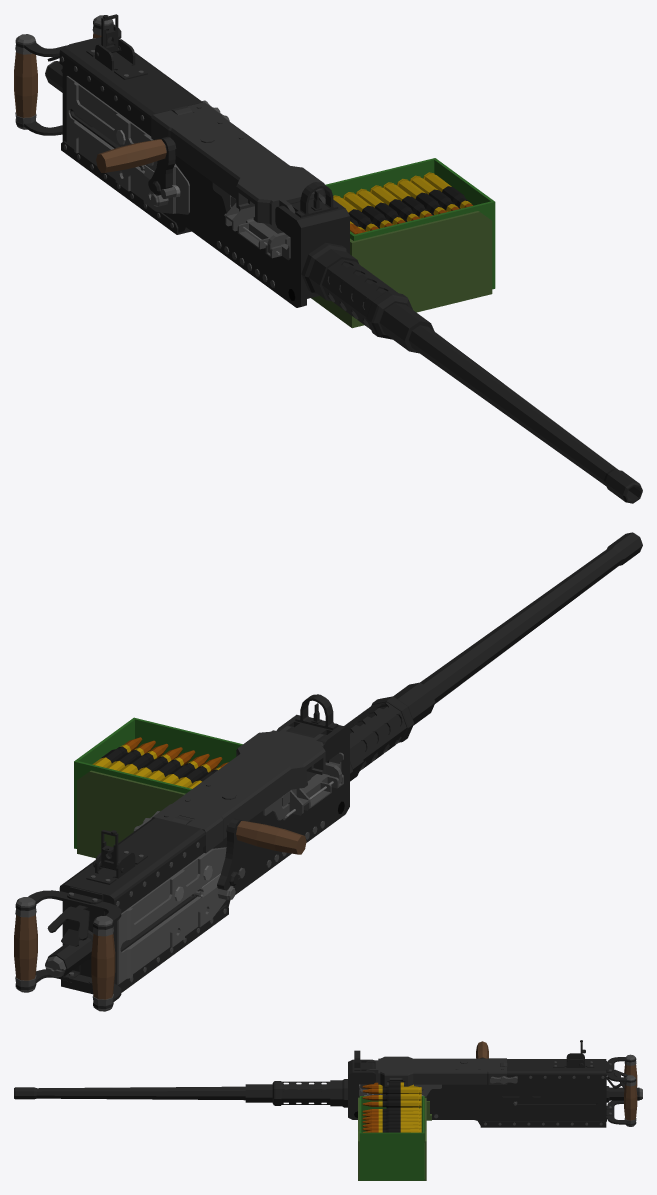
3 renders of one model, top to bottom at view 1: azimuth 30°, elevation 25°; view 2: azimuth 150°, elevation 25°; view 3: azimuth 270°, elevation 25°, orthographic. The views are drawn at different scales.
Parts seen in each view (by area): view 1: M2 Browning 2, M2 Browning 2 Ammo Base 1, M2 Browning 2 Top Cover 1, M2 Browning 2 Barrel 1, M2 Browning 2 Ammo Box 1, M2 Browning 2 Charging Handle 1; view 2: M2 Browning 2, M2 Browning 2 Top Cover 1, M2 Browning 2 Barrel 1, M2 Browning 2 Ammo Base 1, M2 Browning 2 Ammo Box 1, M2 Browning 2 Charging Handle 1, M2 Browning 2 Trigger 1; view 3: M2 Browning 2, M2 Browning 2 Ammo Box 1, M2 Browning 2 Barrel 1, M2 Browning 2 Top Cover 1, M2 Browning 2 Ammo Base 1.
Part boxes in pixels (x1=…): M2 Browning 2: x1=14, y1=15, x2=412, y2=339; M2 Browning 2 Ammo Base 1: x1=311, y1=211, x2=492, y2=328; M2 Browning 2 Top Cover 1: x1=151, y1=102, x2=325, y2=225; M2 Browning 2 Barrel 1: x1=328, y1=262, x2=642, y2=503; M2 Browning 2 Ammo Box 1: x1=325, y1=158, x2=495, y2=289; M2 Browning 2 Charging Handle 1: x1=96, y1=136, x2=176, y2=195; M2 Browning 2: x1=14, y1=694, x2=414, y2=1011; M2 Browning 2 Top Cover 1: x1=151, y1=726, x2=326, y2=853; M2 Browning 2 Barrel 1: x1=350, y1=532, x2=642, y2=760; M2 Browning 2 Ammo Base 1: x1=77, y1=770, x2=185, y2=858; M2 Browning 2 Ammo Box 1: x1=74, y1=717, x2=242, y2=848; M2 Browning 2 Charging Handle 1: x1=217, y1=818, x2=306, y2=890; M2 Browning 2 Trigger 1: x1=47, y1=905, x2=89, y2=940; M2 Browning 2: x1=272, y1=1050, x2=642, y2=1127; M2 Browning 2 Ammo Box 1: x1=359, y1=1096, x2=424, y2=1180; M2 Browning 2 Barrel 1: x1=14, y1=1084, x2=327, y2=1102; M2 Browning 2 Top Cover 1: x1=366, y1=1056, x2=506, y2=1086; M2 Browning 2 Ammo Base 1: x1=358, y1=1097, x2=431, y2=1180.
Bounding box in the file's own units: 0.583 × 0.3389 × 2.09.
